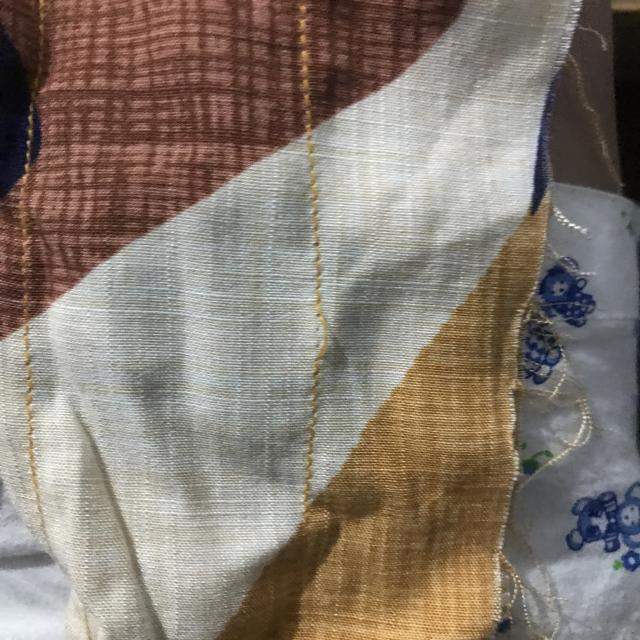good: (301, 159, 336, 249)
skip: (305, 278, 342, 383)
